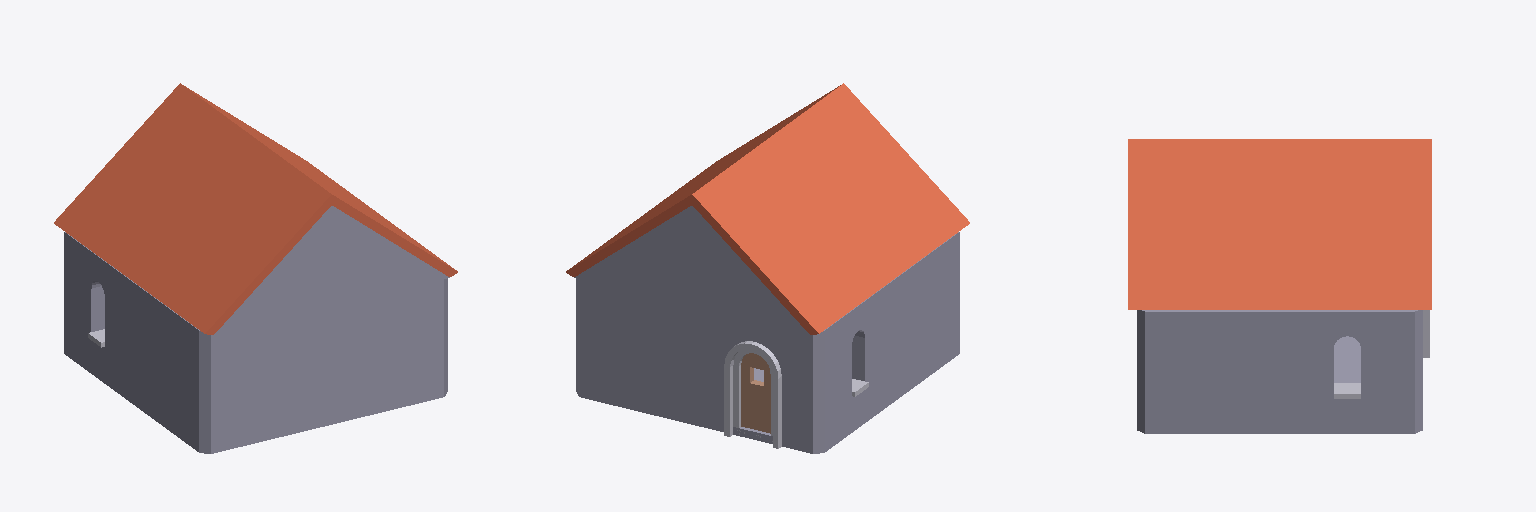
Rendered from House_5.obj.
3 renders of one model, left to right at view 1: azimuth 30°, elevation 25°; view 2: azimuth 150°, elevation 25°; view 3: azimuth 270°, elevation 25°, orthographic.
Size of the model in its own units: 2.19 by 1.92 by 2.25.